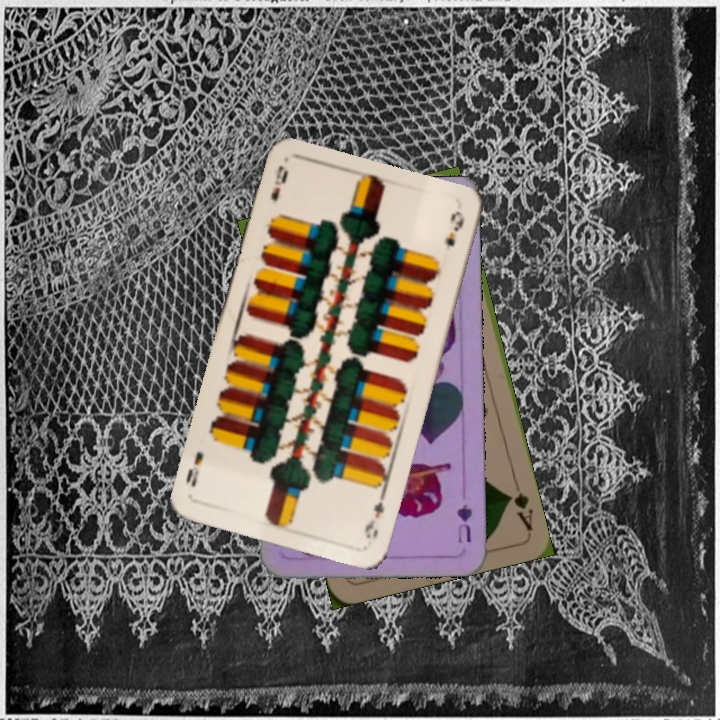E9: (360, 487, 388, 541), (266, 161, 291, 204)
GA: (503, 476, 536, 534)
GU: (453, 500, 476, 546)
